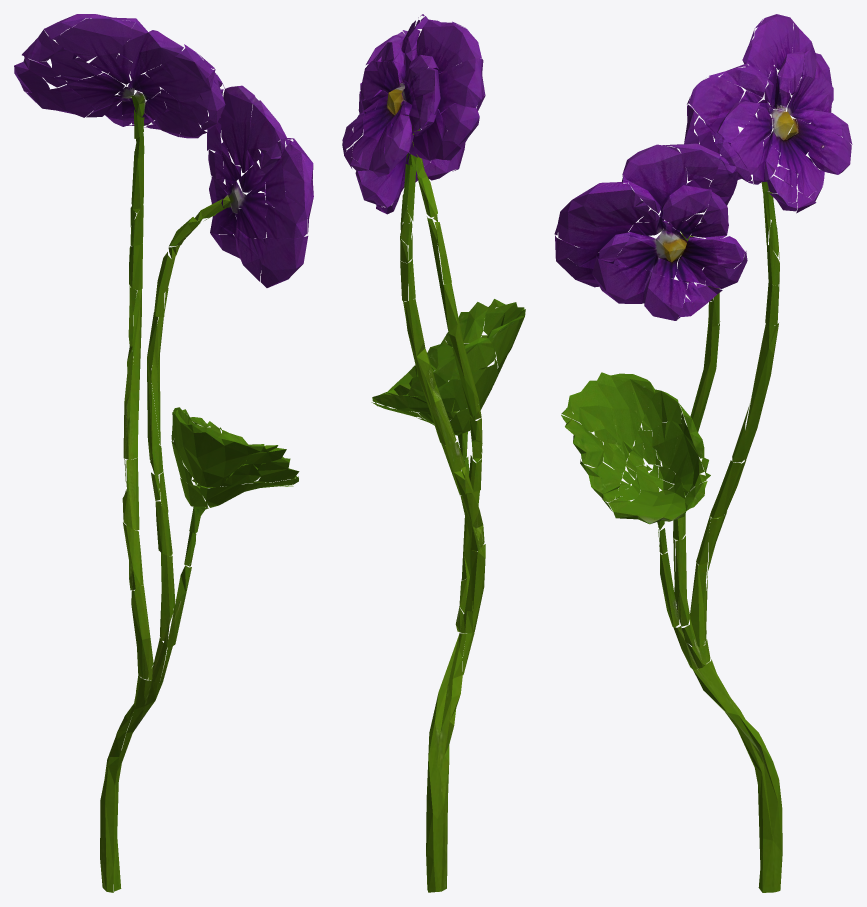
Rendered from violeta_v2.glb.
3 views of the same model, side by side, from view 1: azimuth 30°, elevation 25°; view 2: azimuth 150°, elevation 25°; view 3: azimuth 270°, elevation 25° (orthographic). The views are drawn at different scales.
Visible parts, largest first — view 1: tripo_node_3907ce93-5304-442d-af94-565763ff5b9f; view 2: tripo_node_3907ce93-5304-442d-af94-565763ff5b9f; view 3: tripo_node_3907ce93-5304-442d-af94-565763ff5b9f.
Part boxes in pixels (box(x1,y1,x2,y2)): tripo_node_3907ce93-5304-442d-af94-565763ff5b9f: box(14, 14, 313, 892); tripo_node_3907ce93-5304-442d-af94-565763ff5b9f: box(342, 14, 525, 892); tripo_node_3907ce93-5304-442d-af94-565763ff5b9f: box(554, 14, 852, 892).
Bounding box in the file's own units: 0.2219 × 1 × 0.3145.
Materials: 1 (1 with a texture image).
